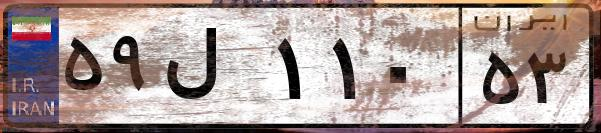0: (385, 28, 445, 110)
1: (270, 28, 330, 110), (330, 28, 385, 110)
3: (525, 38, 570, 115)
5: (57, 26, 110, 100), (475, 38, 525, 113)
9: (110, 28, 158, 98)
ل: (158, 20, 270, 120)
